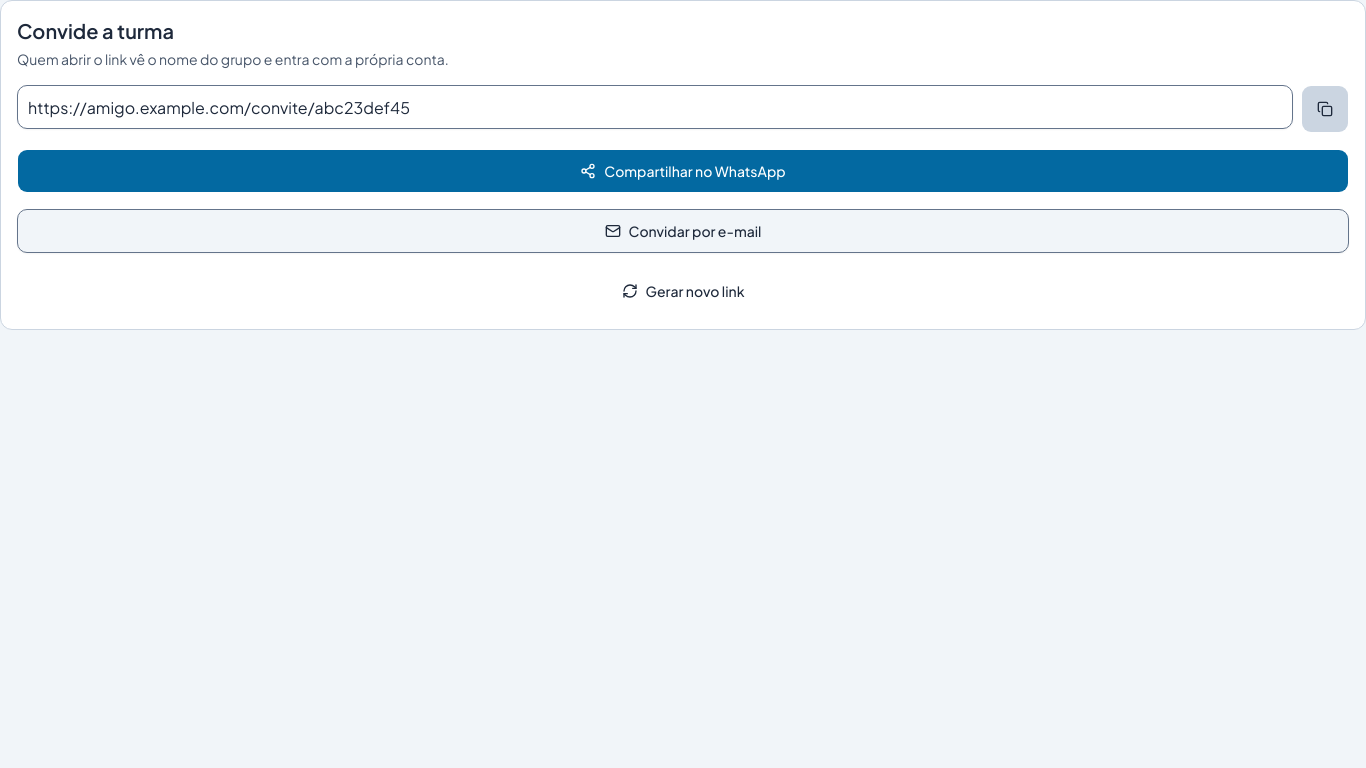
Test: InviteBlock › confirmar mostra o link novo e anuncia Novo link gerado
This screenshot has width=1366, height=768.
Later steps or results of the test are not shown.
Click the button "Gerar novo link" at (683, 291), box [17,269,1349,313]
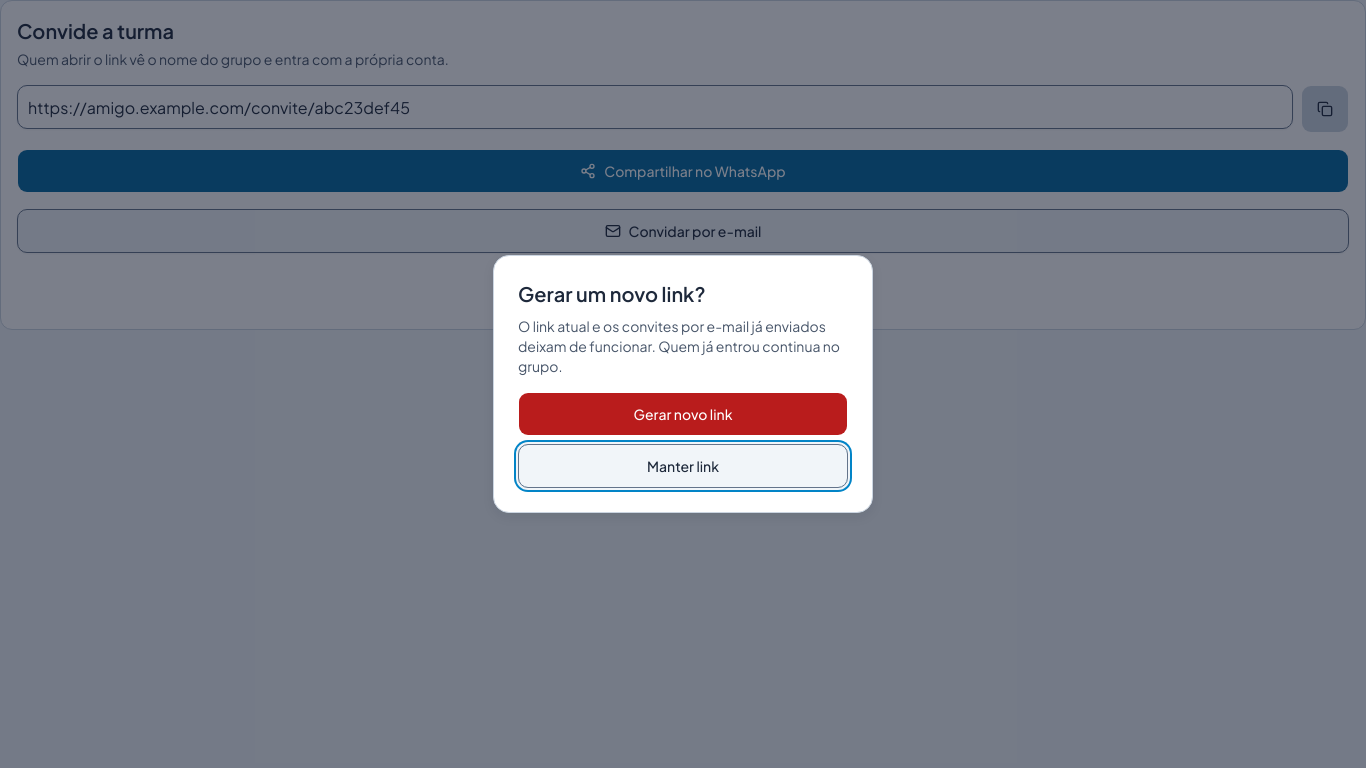
Click the button "Gerar novo link" at (683, 414), box [518,392,848,436]
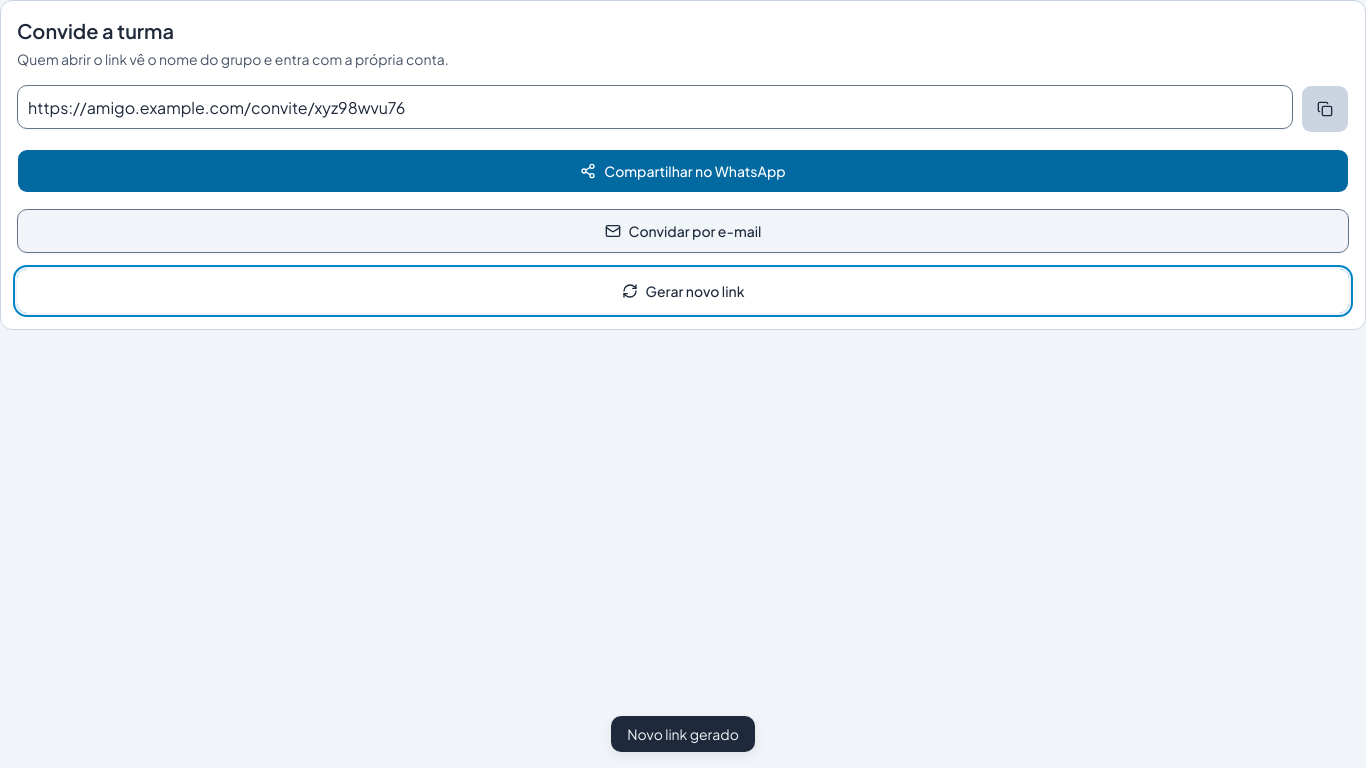
Result: the dialog is gone
Result: the message reads "Novo link gerado" at [627,725,739,743]
